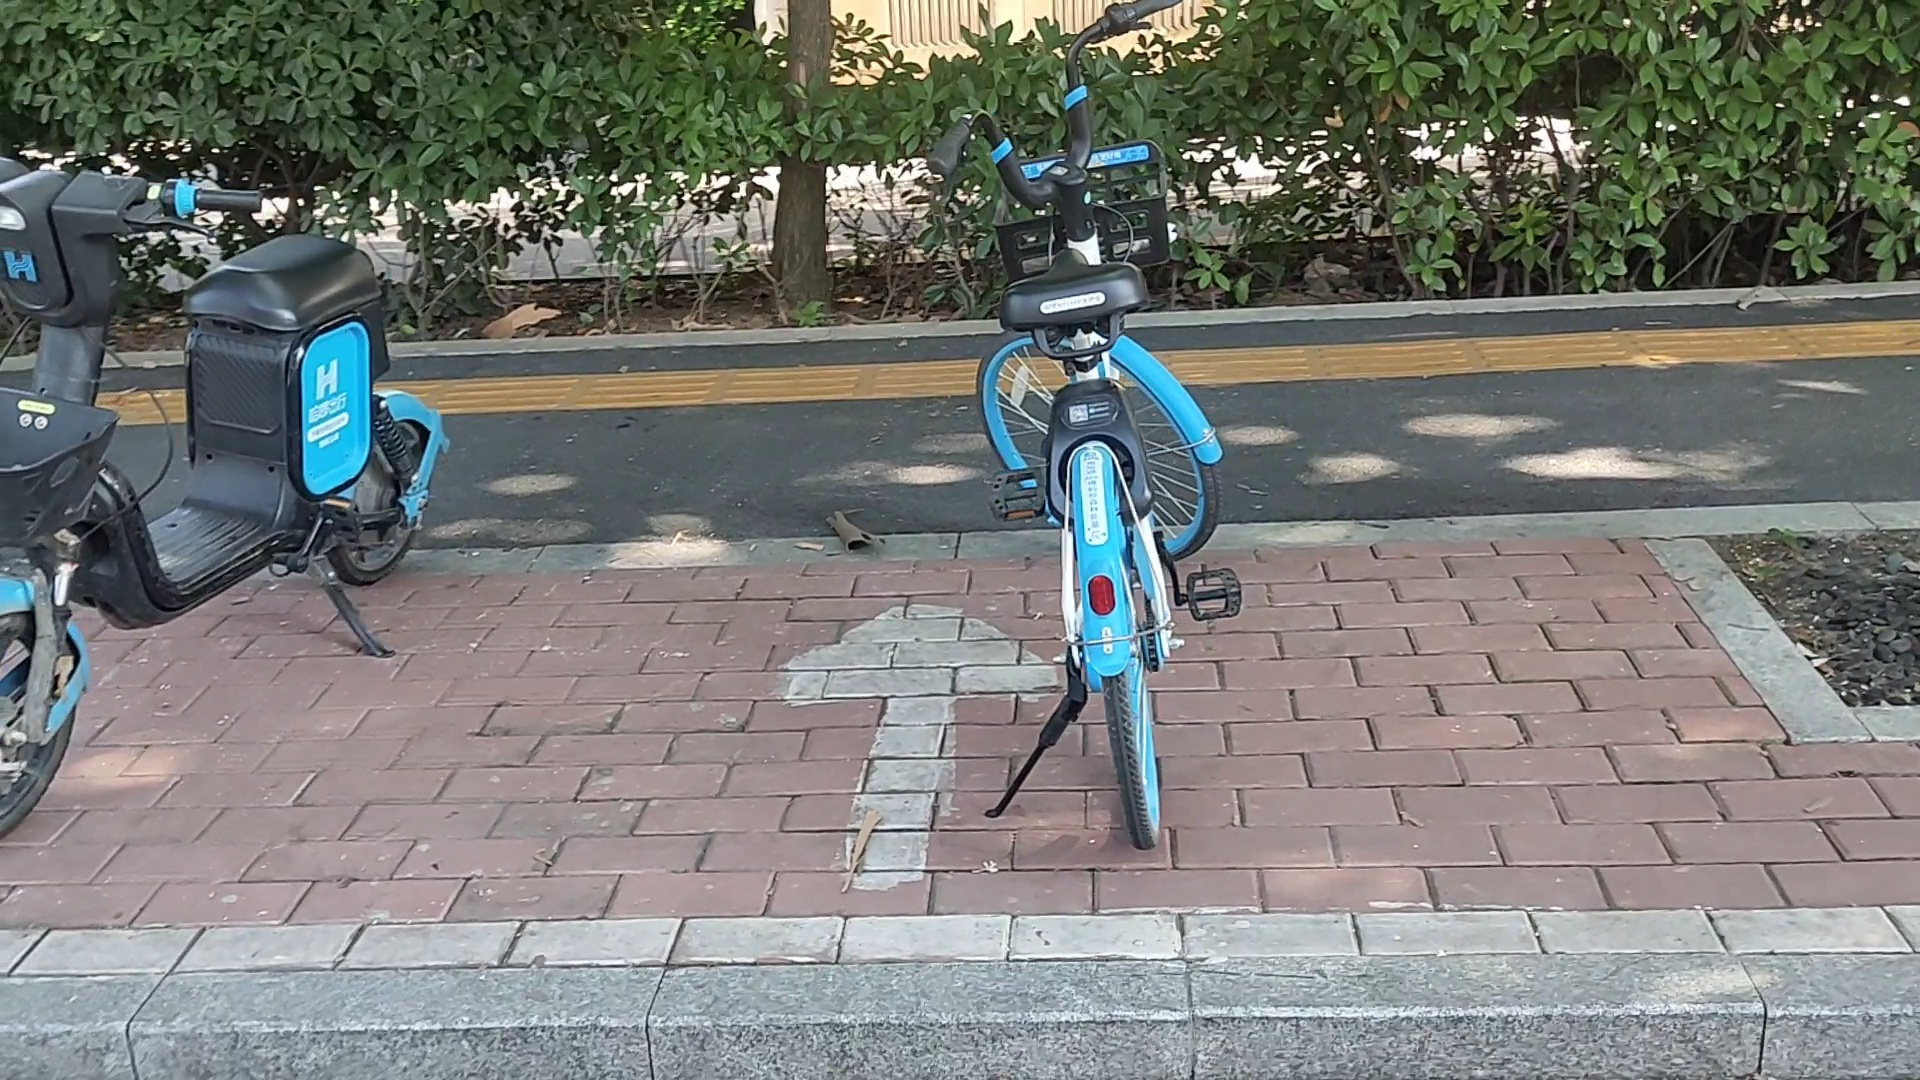non-vehicle: (0, 96, 459, 891), (957, 34, 1230, 849)
